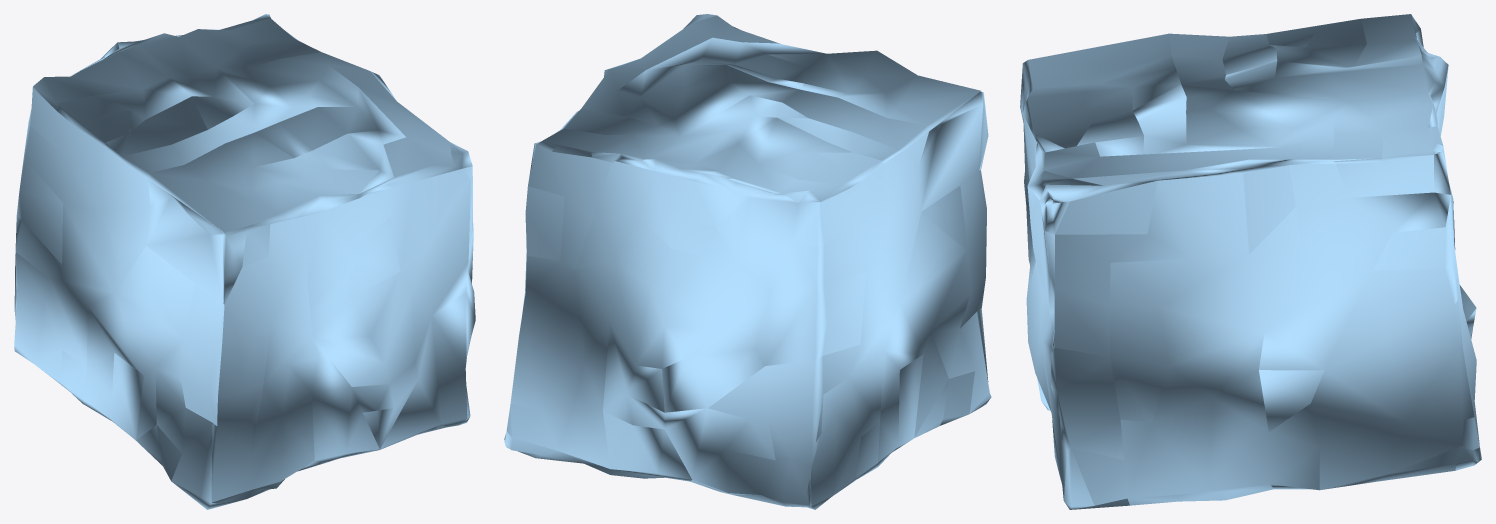
File: ice.glb
3 views of the same model, side by side, from view 1: azimuth 30°, elevation 25°; view 2: azimuth 150°, elevation 25°; view 3: azimuth 270°, elevation 25° (orthographic). The views are drawn at different scales.
Visible parts, largest first — view 1: ice; view 2: ice; view 3: ice.
Part boxes in pixels (x1=…): ice: x1=14, y1=14, x2=475, y2=509; ice: x1=504, y1=14, x2=991, y2=509; ice: x1=1020, y1=14, x2=1481, y2=509.
Size of the model in its own units: 0.8463 by 0.8652 by 0.9944.
